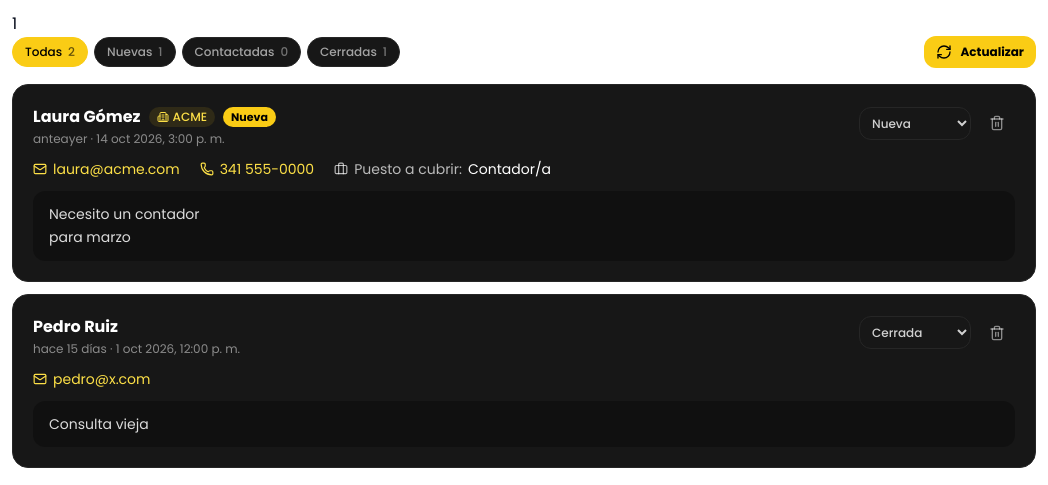
Consultas de empresas › filtrar por estado deja sólo las de ese estado
expect the text "laura gómez" is shown: met, box [33,105,140,129]
Click the button with aria-label "Cerradas: 1": (354, 52) [307,37,400,67]
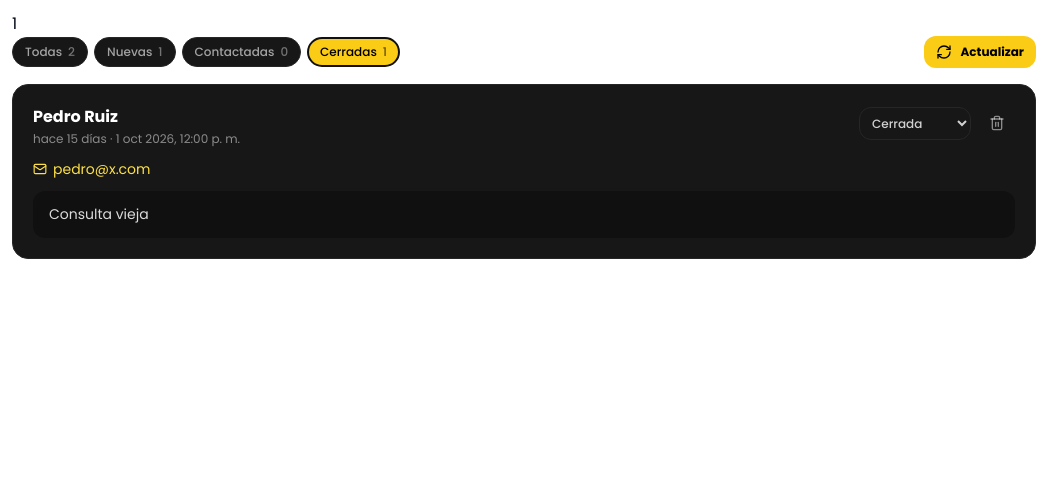
expect the text "pedro ruiz" is shown: met, box [33,105,118,129]
expect the text "laura gómez" is gone: met
